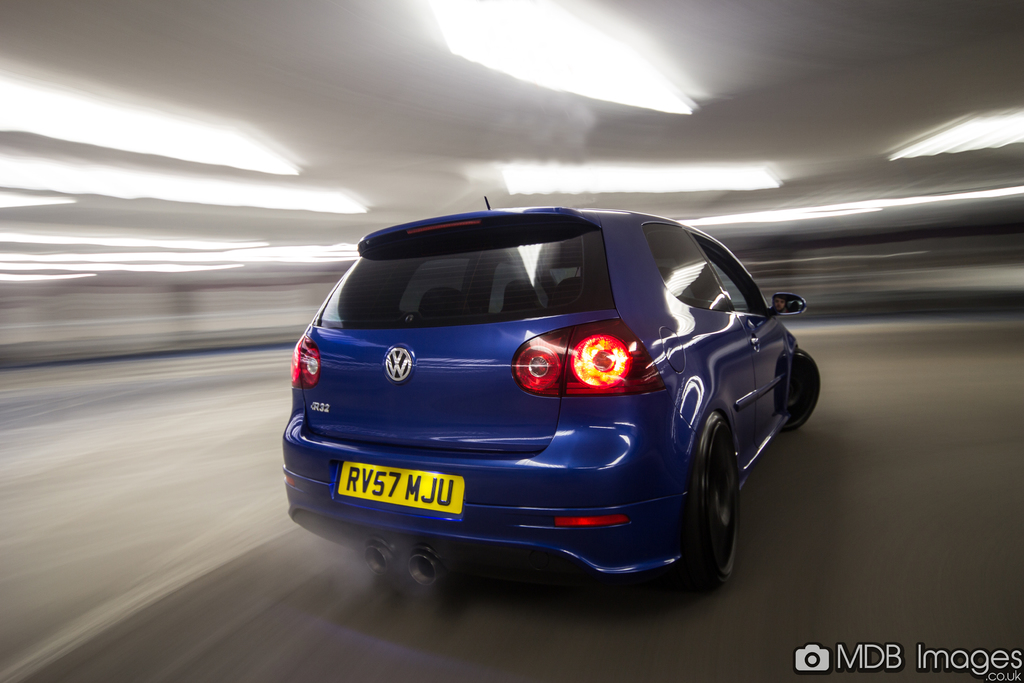Car: (287, 193, 819, 606)
